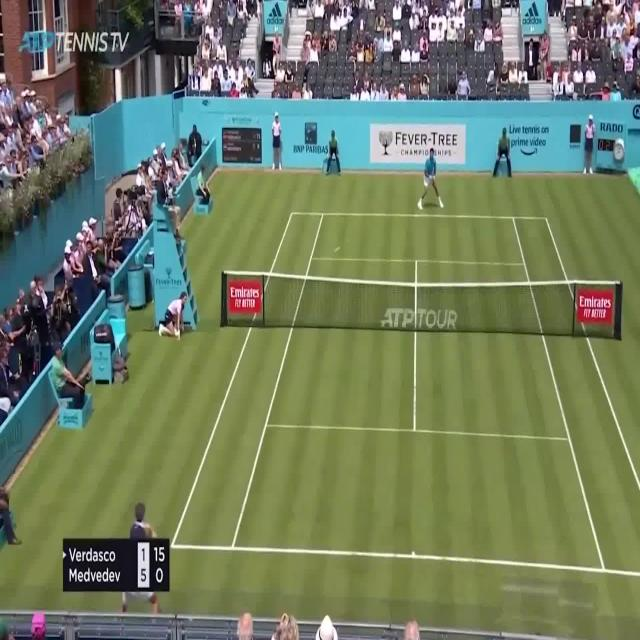bottom-dead-zone: (232, 425, 604, 570)
court: (171, 213, 640, 575)
left-doubles-alley: (171, 213, 323, 549)
left-service-box: (264, 258, 416, 430)
net: (220, 270, 624, 342)
right-doubles-alley: (513, 218, 640, 574)
right-service-box: (413, 259, 571, 440)
top-dead-zone: (311, 215, 525, 264)
